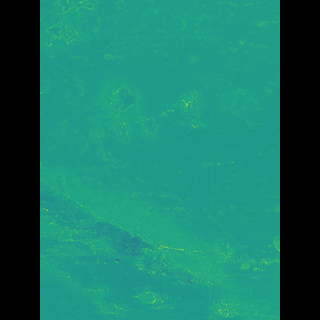Loch: (71, 176, 247, 320), (118, 86, 194, 138), (213, 85, 235, 125)
